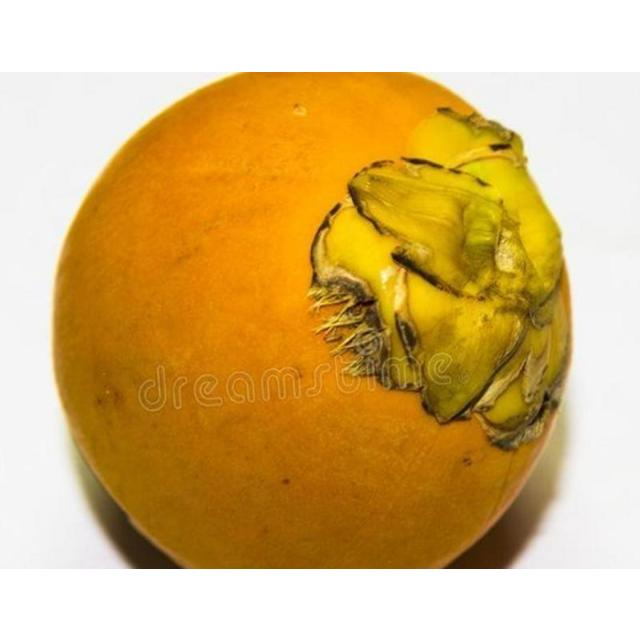good: (55, 71, 572, 568)
